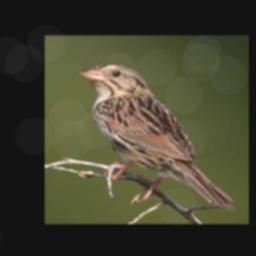Sparrow: (78, 61, 232, 210)
